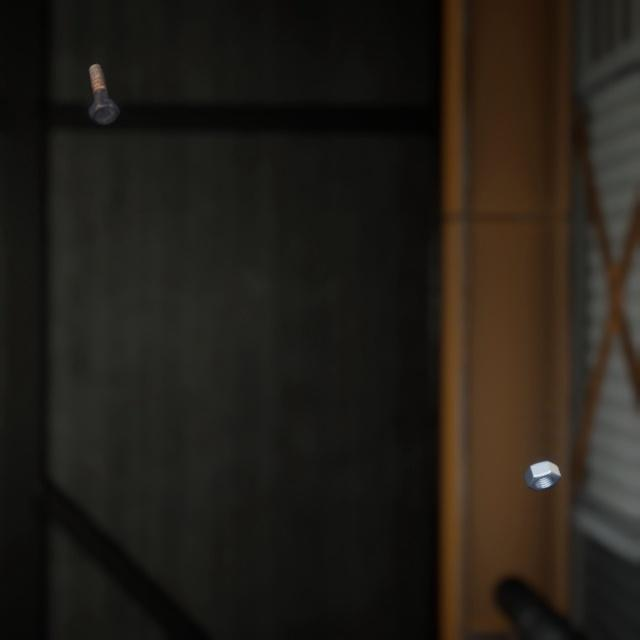bolt: (84, 48, 124, 118)
nut: (519, 435, 565, 474)
